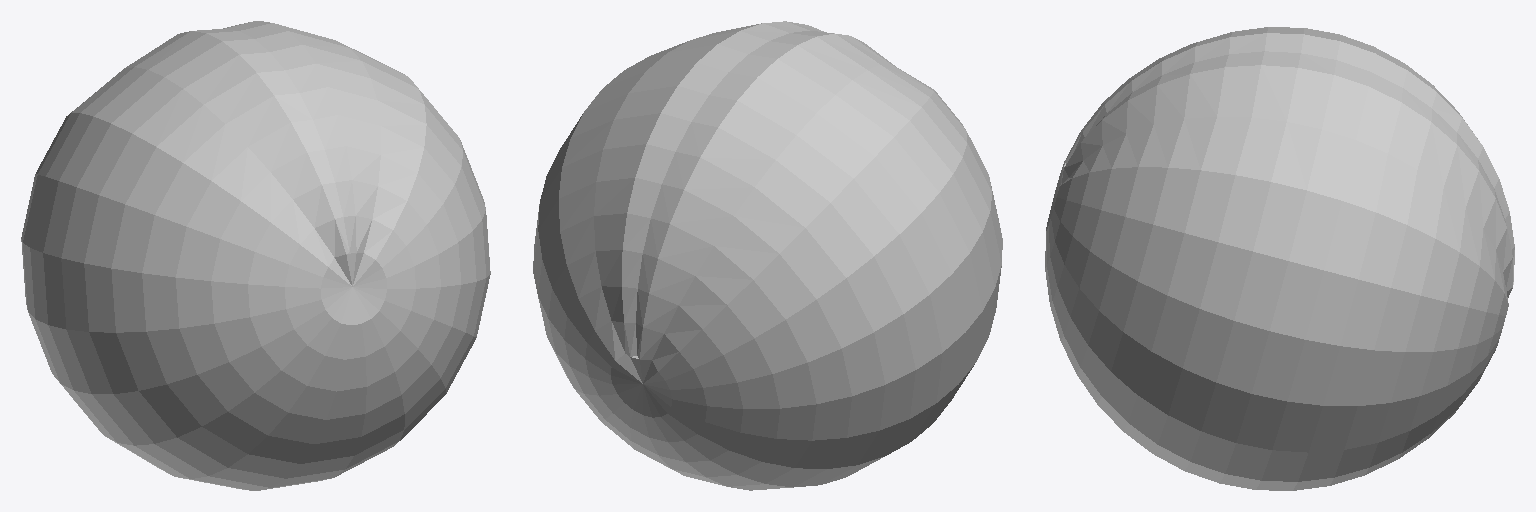
File: langue.obj
3 renders of one model, left to right at view 1: azimuth 30°, elevation 25°; view 2: azimuth 150°, elevation 25°; view 3: azimuth 270°, elevation 25°, orthographic.
Visible parts, largest first — view 1: langue; view 2: langue; view 3: langue.
Boxes of the visible parts, <box> form: langue: <box>21,21,490,490</box>; langue: <box>533,21,1002,490</box>; langue: <box>1045,27,1514,490</box>.
Size of the model in its own units: 91.81 by 91.74 by 92.26.